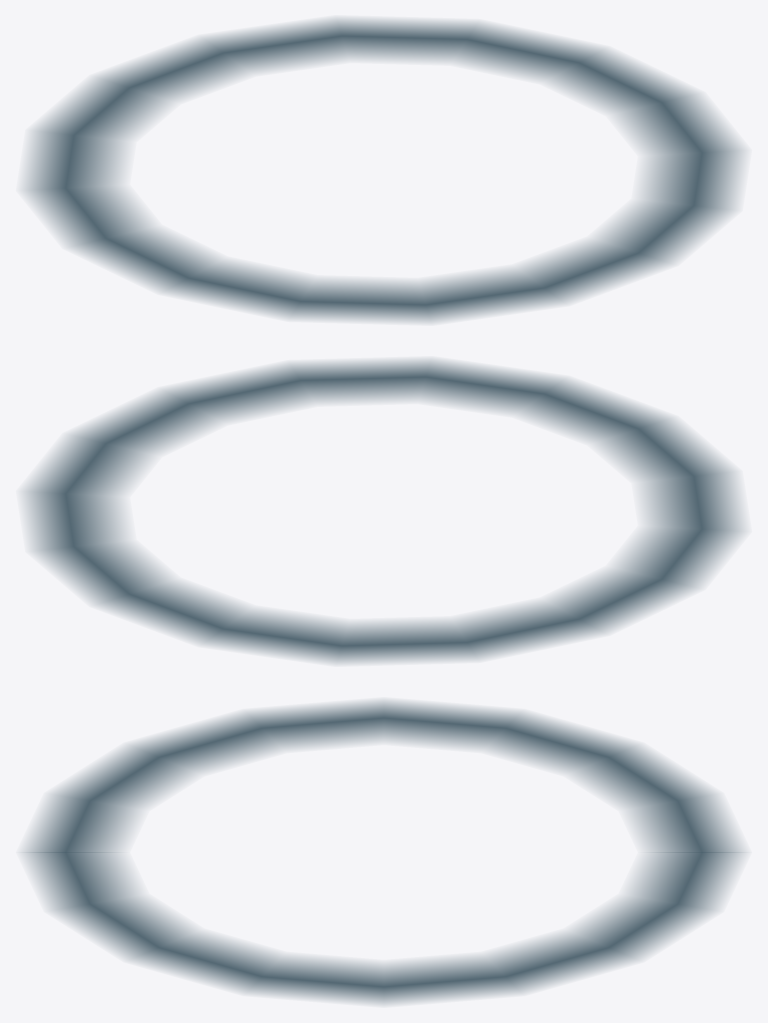
Rendered from shi-daze-rain-vfx-v1-ripple-lod1.glb.
The picture shows the model from 3 angles, top to bottom: view 1: azimuth 30°, elevation 25°; view 2: azimuth 150°, elevation 25°; view 3: azimuth 270°, elevation 25°; orthographic projection.
Parts seen in each view (by area): view 1: SM_SHI_RainRipple_01_LOD1; view 2: SM_SHI_RainRipple_01_LOD1; view 3: SM_SHI_RainRipple_01_LOD1.
Part boxes in pixels (x1,y1,x2,y2): SM_SHI_RainRipple_01_LOD1: (23, 18, 744, 322); SM_SHI_RainRipple_01_LOD1: (23, 359, 744, 663); SM_SHI_RainRipple_01_LOD1: (21, 700, 746, 1004).
Size of the model in its own units: 1 by 0 by 1.
